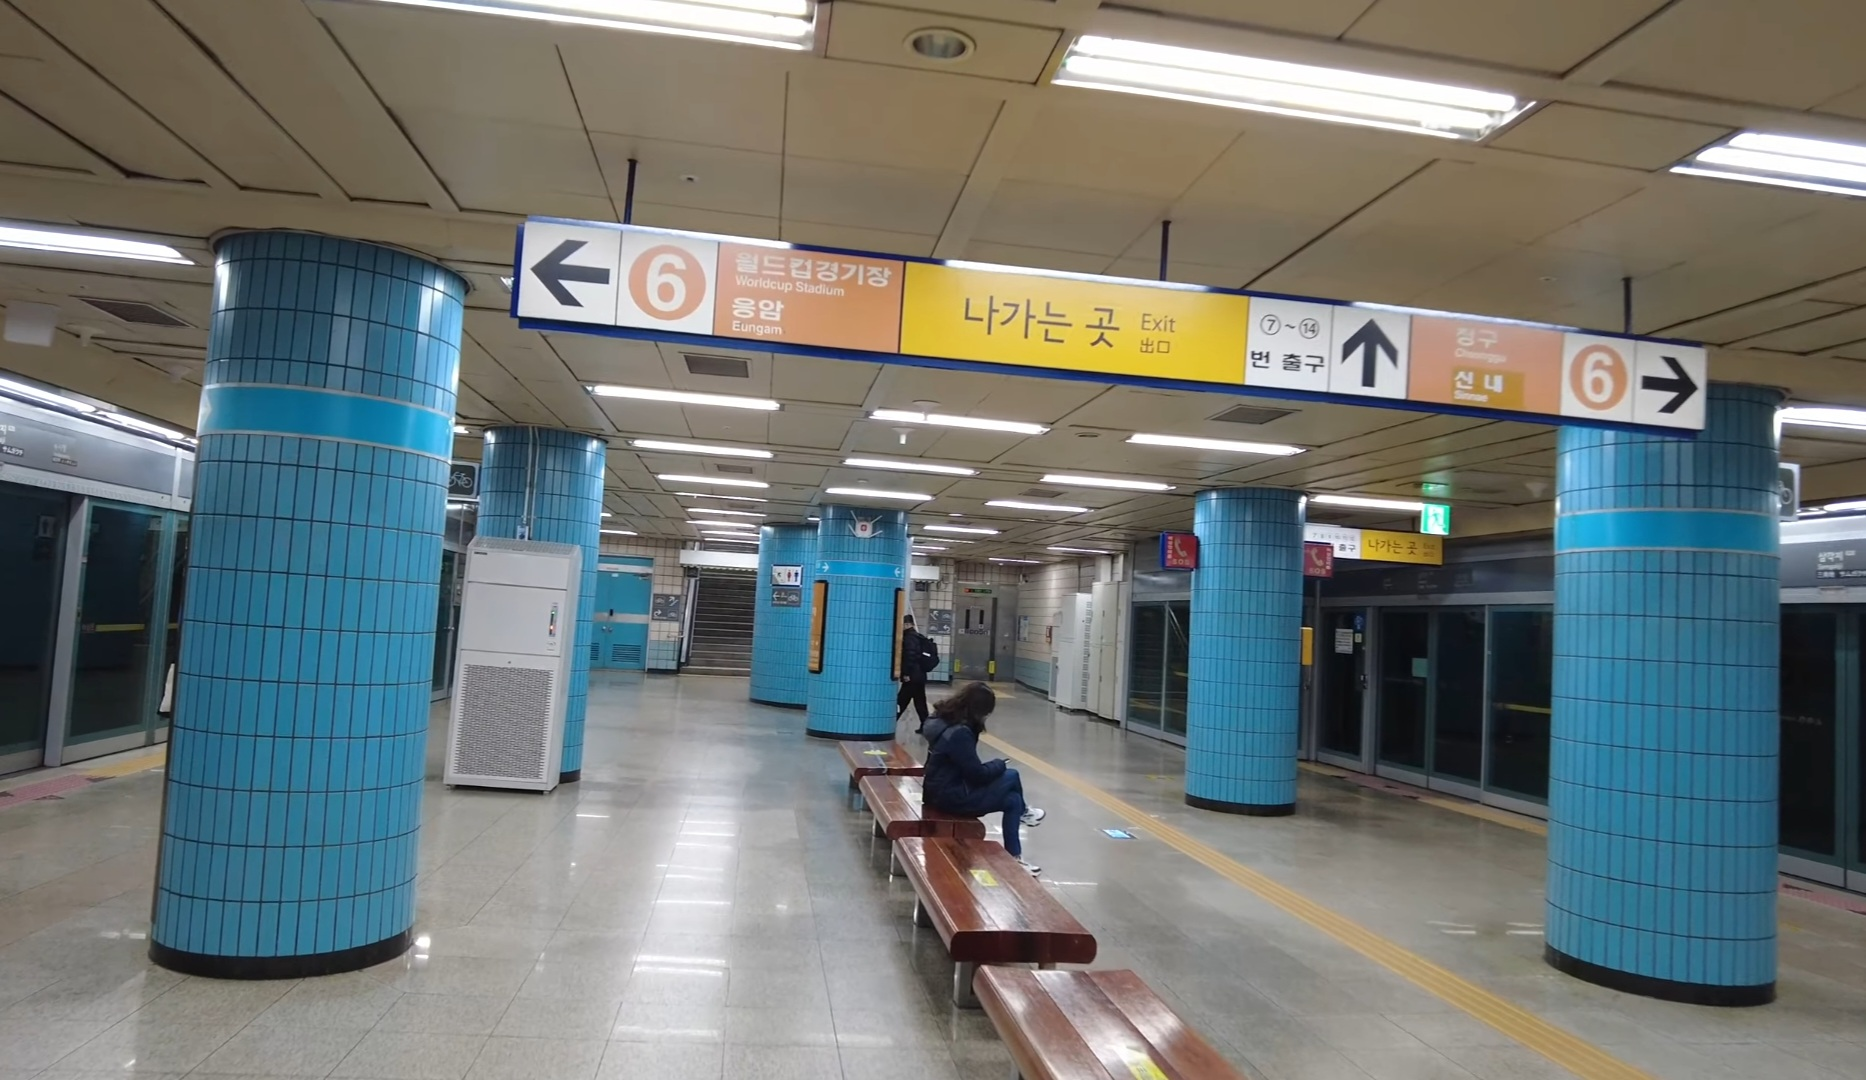signBoard: (506, 215, 1718, 444)
